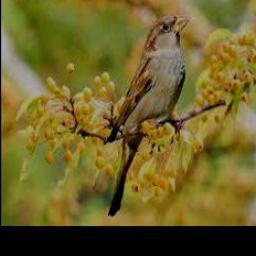Sparrow: (108, 14, 189, 217)
